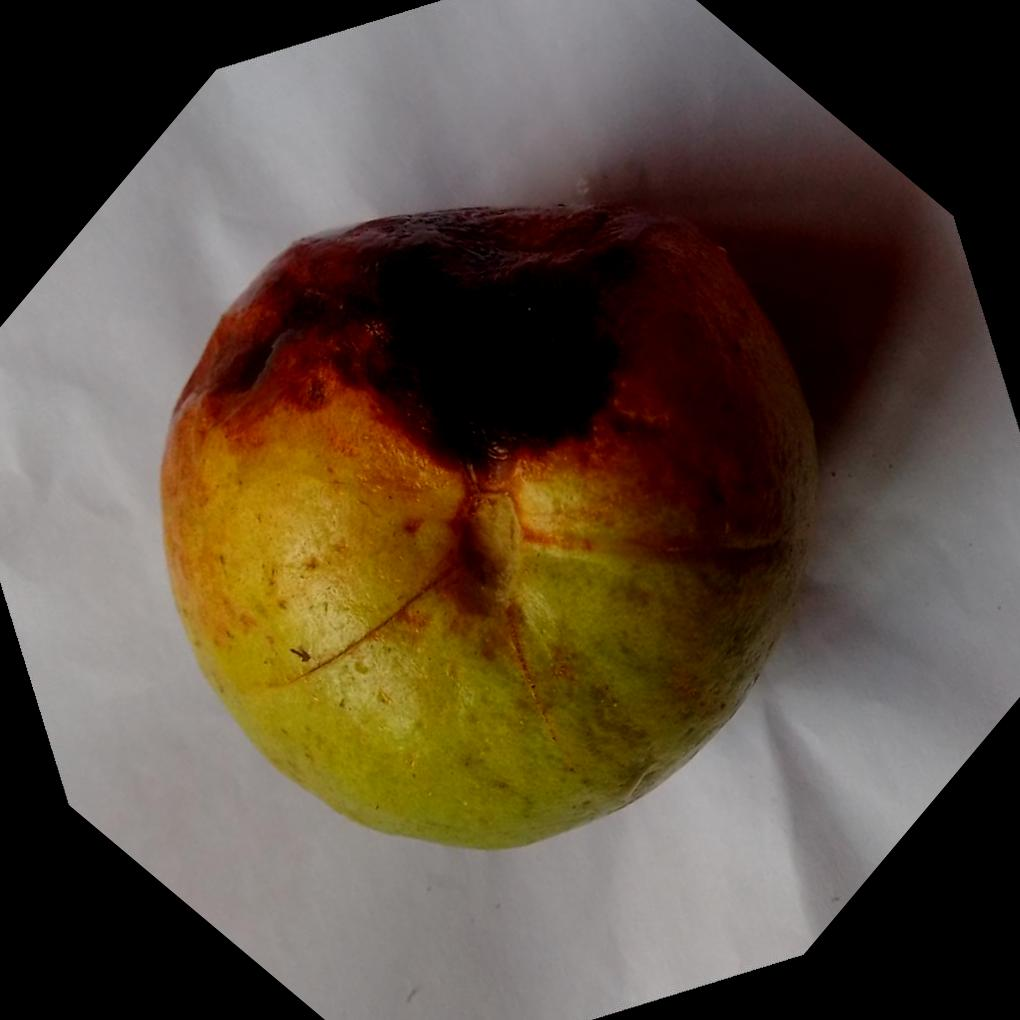FreshOrange: (153, 198, 823, 851)
